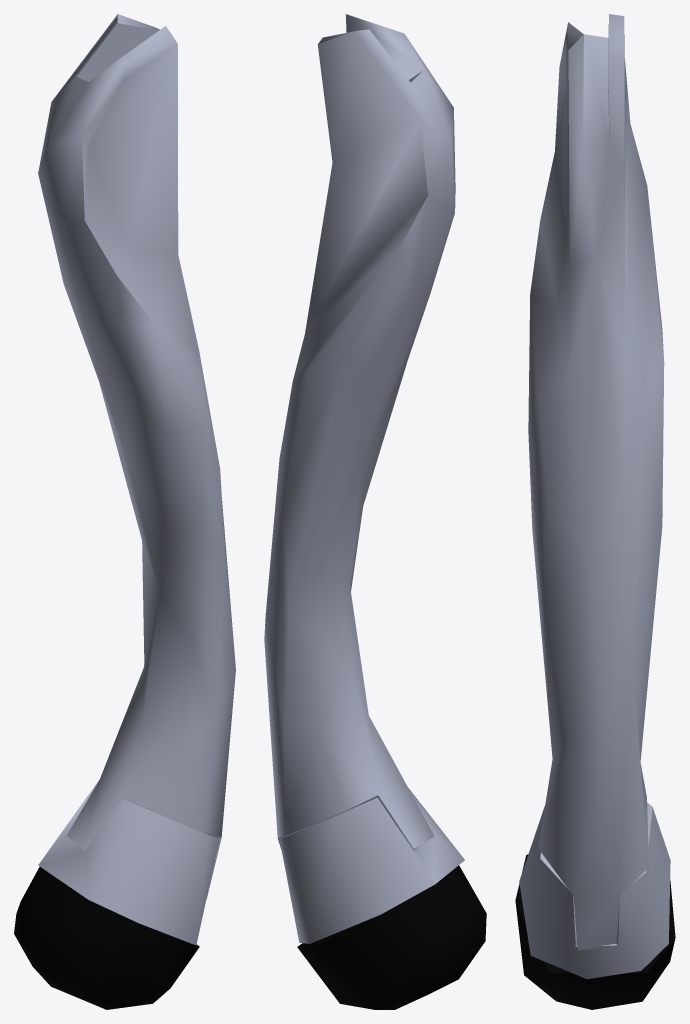
The model's file is calf_dae.dae.
The picture shows the model from 3 angles, left to right: view 1: azimuth 30°, elevation 25°; view 2: azimuth 150°, elevation 25°; view 3: azimuth 270°, elevation 25°; orthographic projection.
Parts seen in each view (by area): view 1: calf_dae; view 2: calf_dae; view 3: calf_dae.
Boxes of the visible parts, left/top/right/bottom form: calf_dae: left=14, top=14, right=235, bottom=1009; calf_dae: left=264, top=14, right=486, bottom=1009; calf_dae: left=515, top=14, right=675, bottom=1009.
Bounding box in the file's own units: 0.0584 × 0.0391 × 0.2663.
